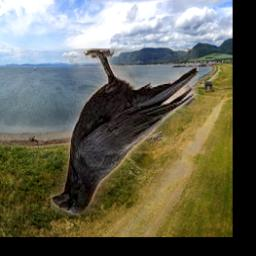Crow: (51, 49, 199, 216)
